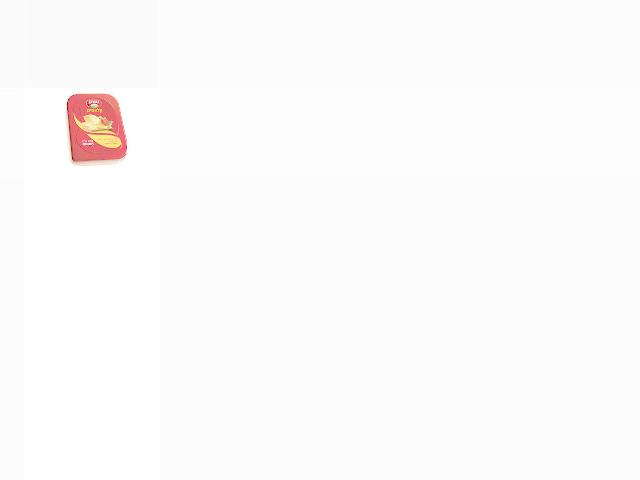cheese: (64, 89, 126, 165)
